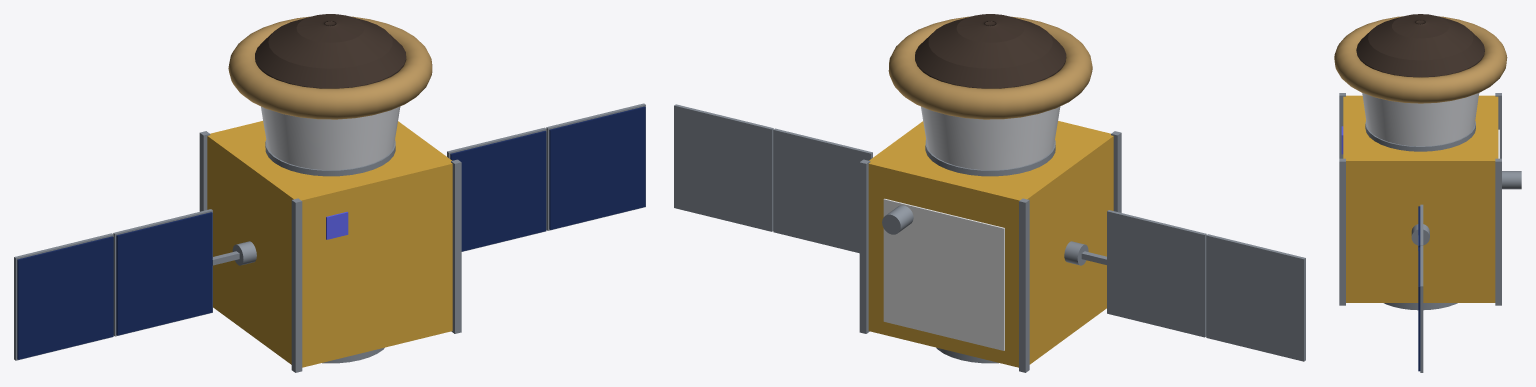
The model's file is SP-BONE.glb.
The picture shows the model from 3 angles, left to right: view 1: azimuth 30°, elevation 25°; view 2: azimuth 150°, elevation 25°; view 3: azimuth 270°, elevation 25°; orthographic projection. The views are drawn at different scales.
Visible parts, largest first — view 1: service_module_structure, solar_panel_-X2, solar_panel_-X1, solar_panel_+X2, solar_panel_+X1, nose, heat_shield_packed, capsule_backshell, corner_rail_-X-Y, corner_rail_+X-Y, panel_frame_+X2, panel_frame_-X1 (+5 smaller); view 2: service_module_structure, radiator_+Y_face, panel_frame_-X1, panel_frame_-X2, panel_frame_+X2, panel_frame_+X1, nose, heat_shield_packed, capsule_backshell, corner_rail_-X+Y, corner_rail_+X+Y, separation_interface (+2 smaller); view 3: service_module_structure, nose, heat_shield_packed, capsule_backshell, corner_rail_+X-Y, corner_rail_+X+Y, separation_interface, panel_frame_+X2, star_tracker, solar_panel_+X2, launch_separation_ring, corner_rail_-X-Y (+2 smaller).
Part boxes in pixels (x1,y1,x2,y2): service_module_structure: (207, 121, 452, 367); solar_panel_-X2: (17, 236, 113, 359); solar_panel_-X1: (116, 212, 212, 335); solar_panel_+X2: (549, 106, 645, 229); solar_panel_+X1: (450, 130, 546, 251); nose: (255, 14, 406, 88); heat_shield_packed: (228, 16, 432, 119); capsule_backshell: (261, 106, 400, 169); corner_rail_-X-Y: (291, 198, 302, 372); corner_rail_+X-Y: (451, 159, 461, 333); panel_frame_+X2: (546, 103, 645, 230); panel_frame_-X1: (113, 209, 212, 336); service_module_structure: (868, 121, 1113, 367); radiator_+Y_face: (883, 198, 1004, 350); panel_frame_-X1: (1107, 210, 1206, 337); panel_frame_-X2: (1206, 234, 1305, 361); panel_frame_+X2: (674, 104, 773, 231); panel_frame_+X1: (773, 128, 872, 253); nose: (915, 14, 1066, 88); heat_shield_packed: (888, 16, 1092, 119); capsule_backshell: (921, 106, 1060, 169); corner_rail_-X+Y: (1019, 198, 1029, 372); corner_rail_+X+Y: (859, 159, 870, 333); separation_interface: (925, 139, 1055, 176); service_module_structure: (1343, 95, 1498, 302); nose: (1356, 14, 1484, 77); heat_shield_packed: (1334, 16, 1507, 103); capsule_backshell: (1362, 93, 1479, 146); corner_rail_+X-Y: (1339, 158, 1345, 305); corner_rail_+X+Y: (1495, 158, 1501, 305); separation_interface: (1365, 121, 1475, 151); panel_frame_+X2: (1420, 245, 1423, 372); star_tracker: (1502, 171, 1521, 189); solar_panel_+X2: (1418, 247, 1420, 371); launch_separation_ring: (1384, 303, 1457, 310); corner_rail_-X-Y: (1339, 93, 1345, 158).
Size of the model in its own units: 2.35 by 1.13 by 0.716.
